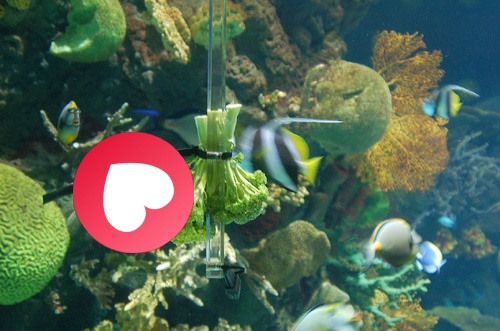love: (73, 132, 194, 253)
